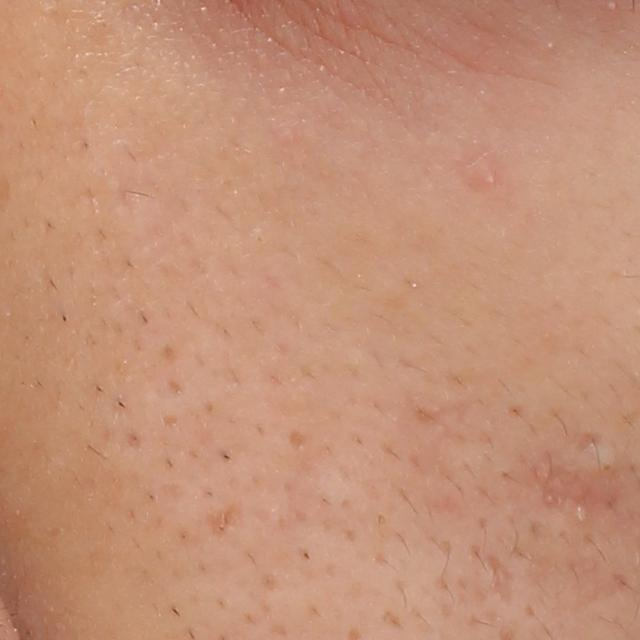atrophic_scar: (522, 456, 639, 529), (483, 553, 518, 610), (200, 503, 244, 537), (575, 429, 603, 454)
